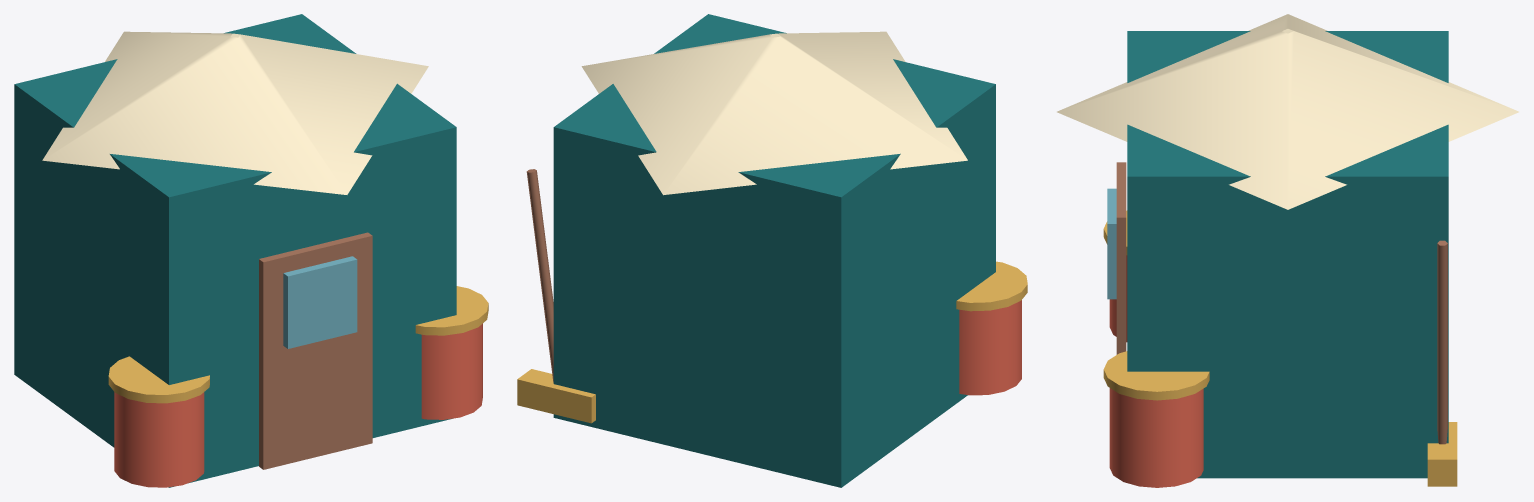
Rendered from staff_janitor.glb.
3 renders of one model, left to right at view 1: azimuth 30°, elevation 25°; view 2: azimuth 150°, elevation 25°; view 3: azimuth 270°, elevation 25°, orthographic. The views are drawn at different scales.
Visible parts, largest first — view 1: staff_janitor; view 2: staff_janitor; view 3: staff_janitor.
Part boxes in pixels (x1,y1,x2,y2): staff_janitor: (14, 14, 488, 487); staff_janitor: (517, 14, 1027, 487); staff_janitor: (1057, 14, 1518, 487).
Size of the model in its own units: 3.9 by 3.47 by 3.9.
